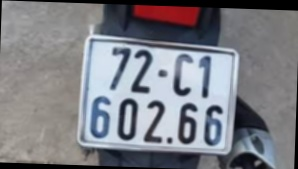Bien-so: (74, 39, 237, 155)
